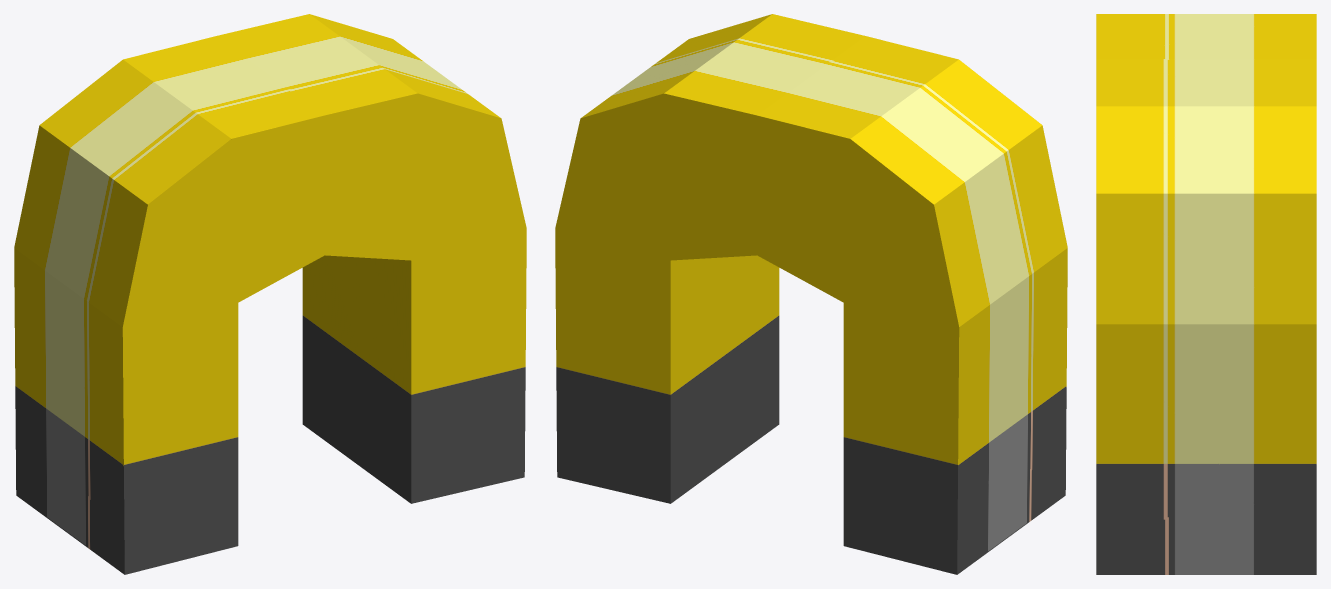
Rendered from mini_magnet.fbx.
The picture shows the model from 3 angles, left to right: view 1: azimuth 30°, elevation 25°; view 2: azimuth 150°, elevation 25°; view 3: azimuth 270°, elevation 25°; orthographic projection.
Visible parts, largest first — view 1: Plane; view 2: Plane; view 3: Plane.
Part boxes in pixels (left/top/right/bottom): Plane: left=14, top=14, right=526, bottom=574; Plane: left=555, top=14, right=1067, bottom=574; Plane: left=1096, top=14, right=1316, bottom=574.
Size of the model in its own units: 109 by 105 by 50.55.
